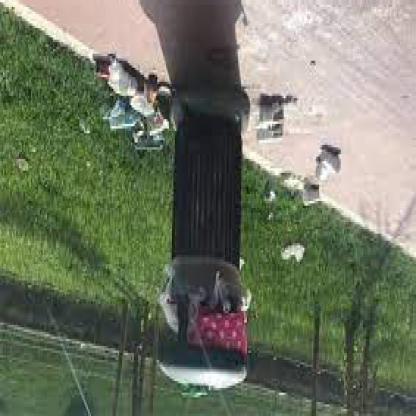Garbage: (90, 54, 176, 152), (254, 86, 294, 148), (314, 129, 350, 187), (254, 92, 290, 150), (278, 234, 309, 272)
